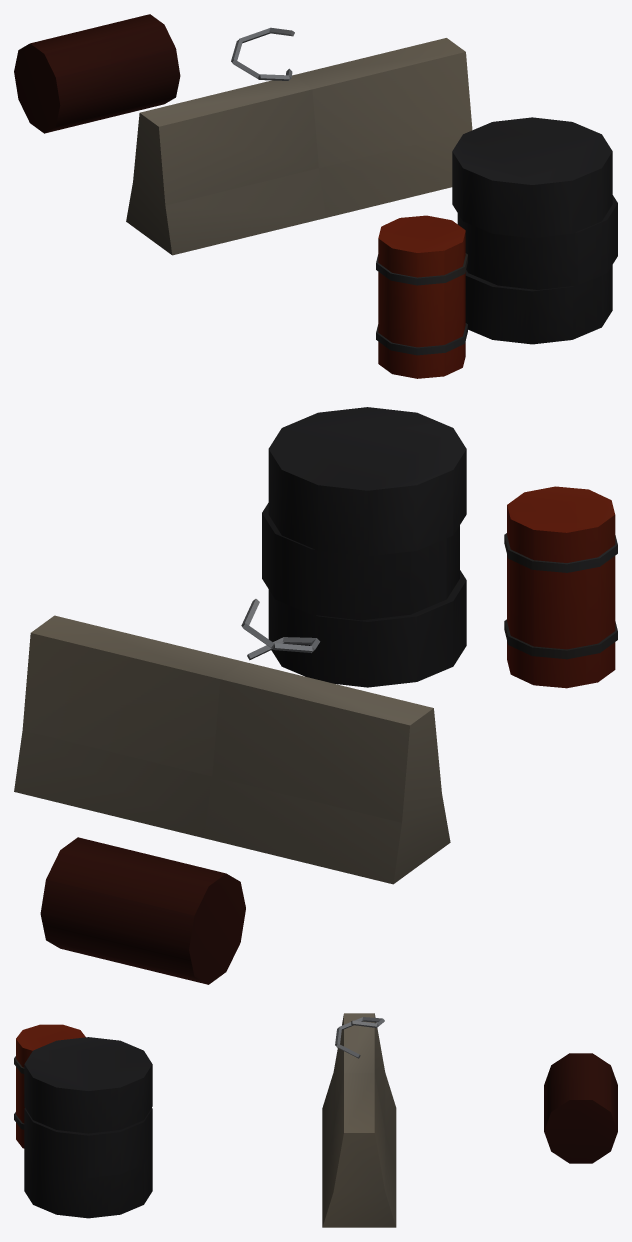
The model's file is rb_wreck_small.glb.
3 renders of one model, top to bottom at view 1: azimuth 30°, elevation 25°; view 2: azimuth 150°, elevation 25°; view 3: azimuth 270°, elevation 25°, orthographic. The views are drawn at different scales.
Visible parts, largest first — view 1: concrete, rubber, rust, metal_dark, spike; view 2: concrete, rubber, rust, metal_dark, spike; view 3: rubber, concrete, rust, spike.
Boxes of the visible parts, x1=… form: concrete: x1=126, y1=38, x2=472, y2=255; rubber: x1=452, y1=117, x2=617, y2=344; rust: x1=14, y1=14, x2=465, y2=378; metal_dark: x1=376, y1=253, x2=467, y2=355; spike: x1=231, y1=27, x2=294, y2=80; concrete: x1=14, y1=615, x2=450, y2=884; rubber: x1=262, y1=407, x2=466, y2=687; rust: x1=40, y1=486, x2=615, y2=984; metal_dark: x1=504, y1=533, x2=617, y2=659; spike: x1=241, y1=599, x2=320, y2=660; rubber: x1=24, y1=1037, x2=152, y2=1218; concrete: x1=322, y1=1013, x2=396, y2=1227; rust: x1=16, y1=1024, x2=617, y2=1163; spike: x1=335, y1=1017, x2=384, y2=1058.
Size of what is drawn, in the model's own units: 2.3 by 1.27 by 4.9.
